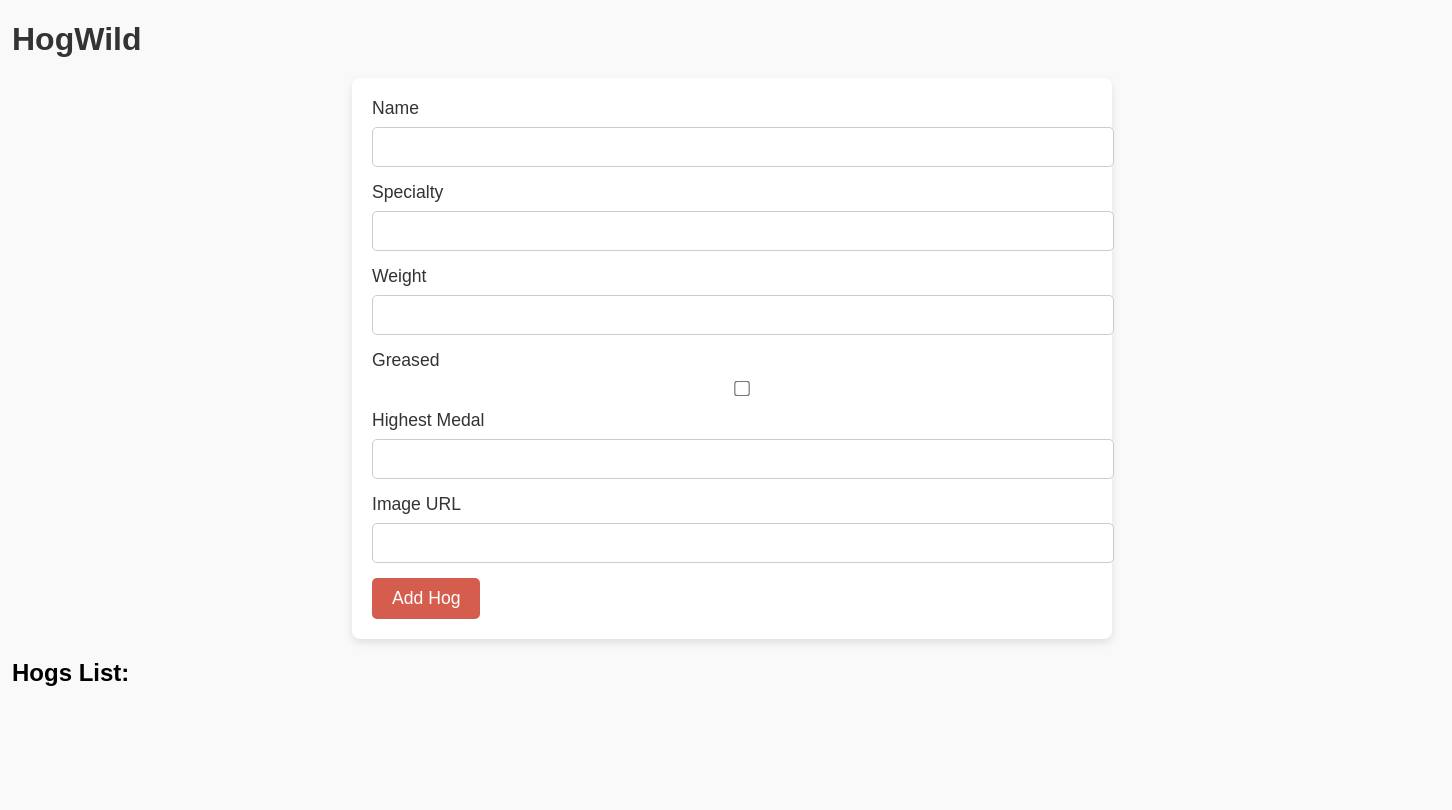
Test: HogApp › adds a new hog via the form
Fill out the form
In the field labelled "Name": {"x": 743, "y": 147} [372, 127, 1114, 167], type "Hogzilla"
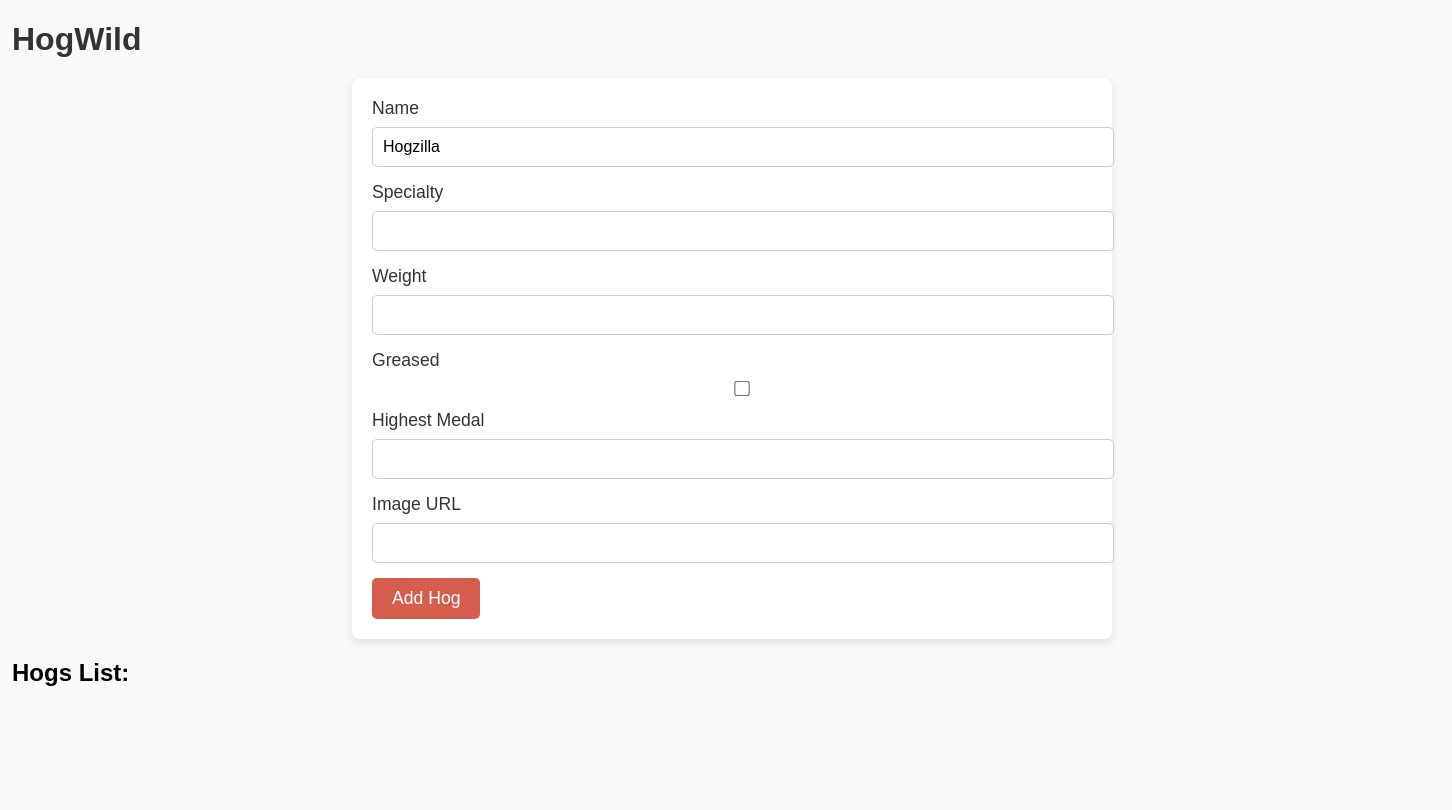
In the field labelled "Specialty": {"x": 743, "y": 231} [372, 211, 1114, 251], type "Fighter"
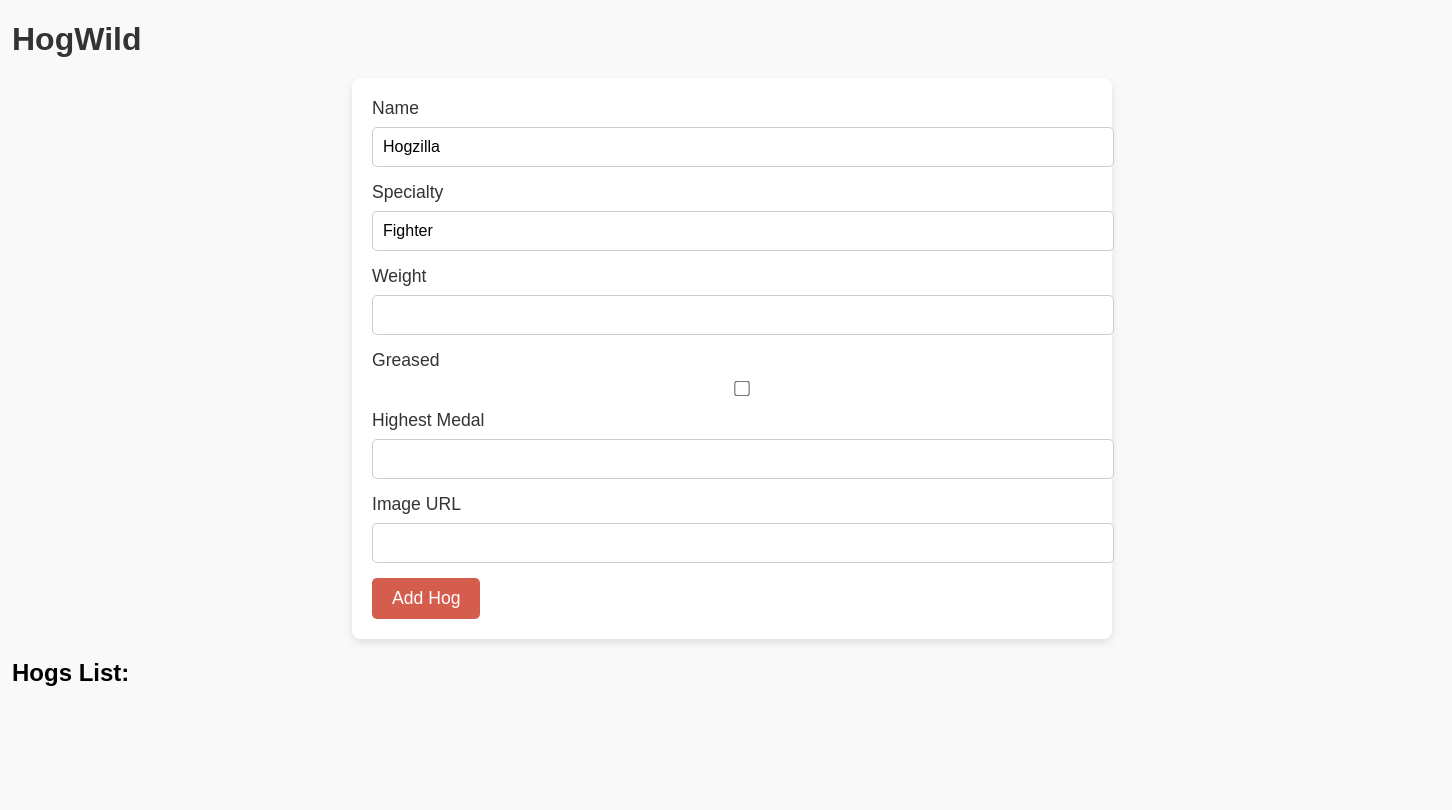
In the number field labelled "Weight": {"x": 743, "y": 315} [372, 295, 1114, 335], type "300"
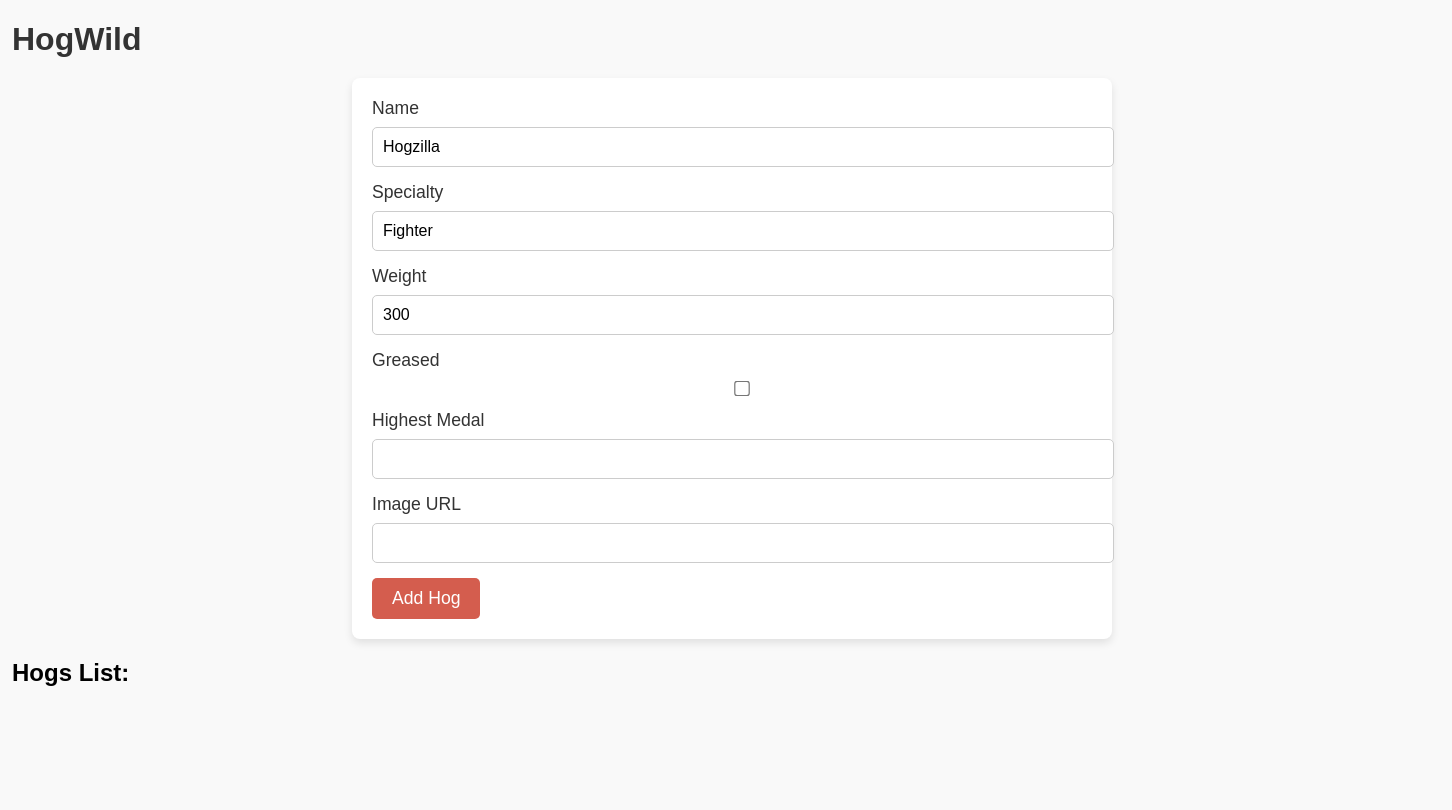
In the field labelled "Highest Medal": {"x": 743, "y": 459} [372, 439, 1114, 479], type "Gold"
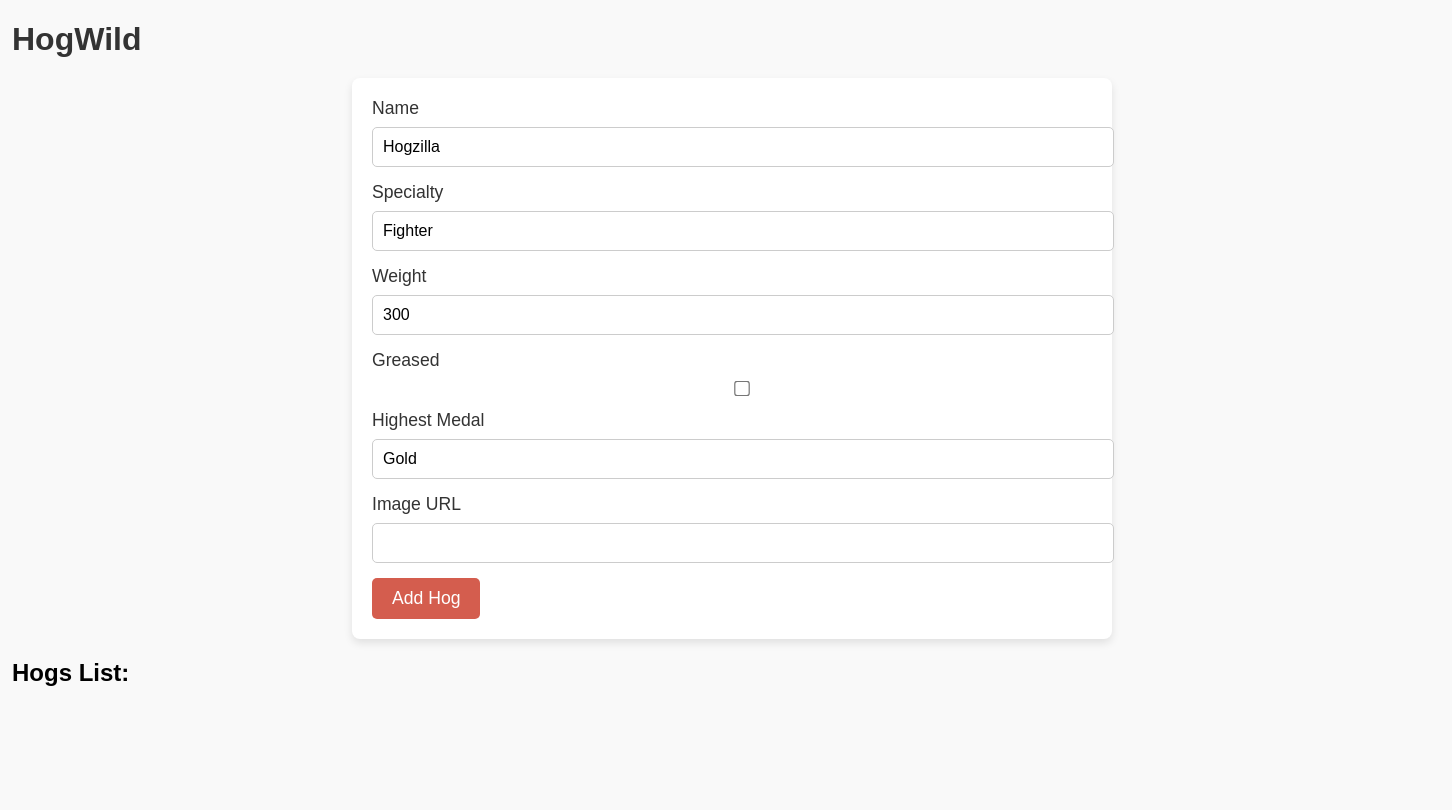
Simulate the form submission
Click the button "Add Hog": {"x": 426, "y": 599} [372, 578, 480, 619]
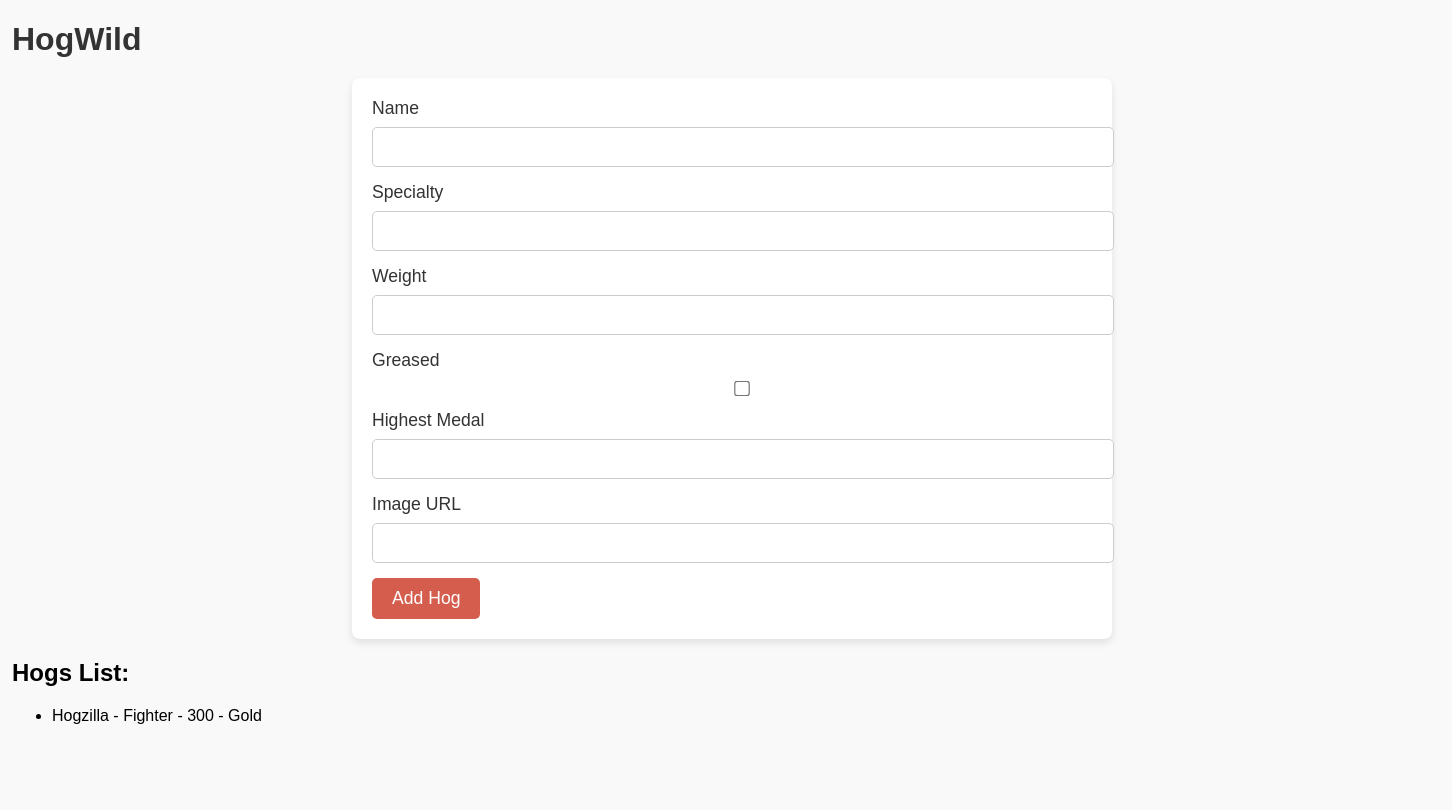
Check: the list item "Hogzilla - Fighter - 300 - Gold" is shown, box [52, 707, 262, 724]
